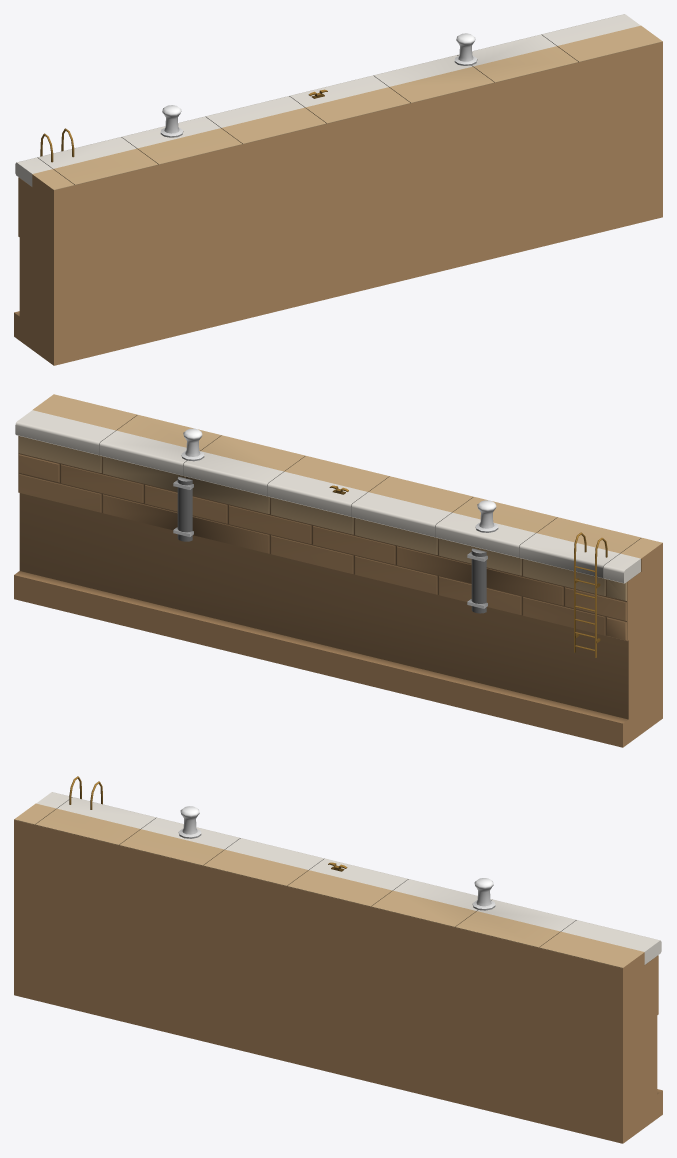
Rendered from quay_corner_inner.fbx.
The picture shows the model from 3 angles, top to bottom: view 1: azimuth 30°, elevation 25°; view 2: azimuth 150°, elevation 25°; view 3: azimuth 330°, elevation 25°; orthographic projection.
Parts seen in each view (by area): view 1: quay_corner_inner; view 2: quay_corner_inner; view 3: quay_corner_inner.
Boxes of the visible parts, <box> form: quay_corner_inner: <box>14,14,662,365</box>; quay_corner_inner: <box>14,394,662,747</box>; quay_corner_inner: <box>14,776,662,1143</box>.
Bounding box in the file's own units: 14.5 × 4.58 × 1.66.
